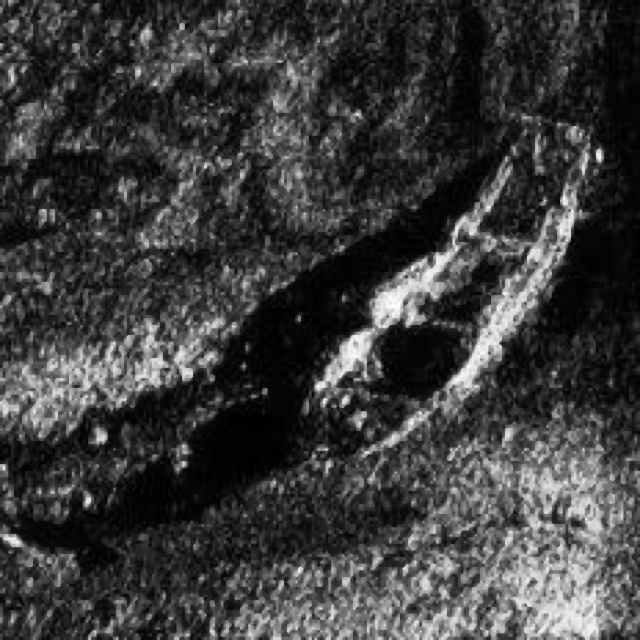Ship: (300, 100, 606, 467)
